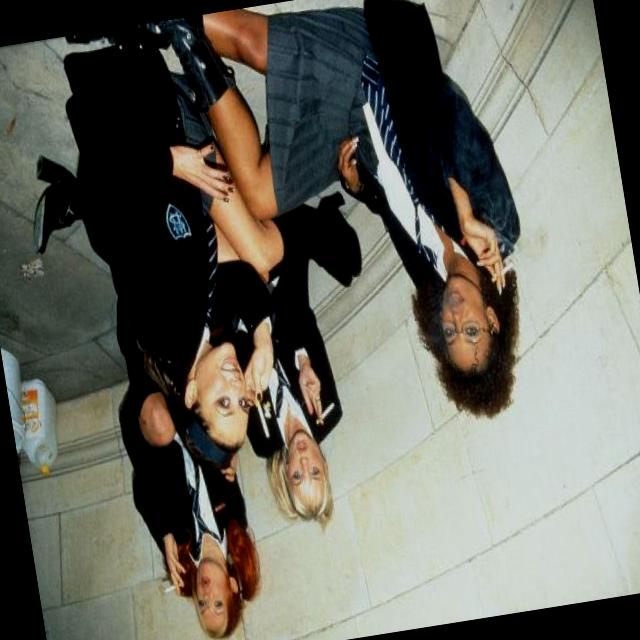smoke: (302, 392, 345, 438), (248, 383, 276, 451), (480, 254, 524, 293), (145, 576, 193, 610)
